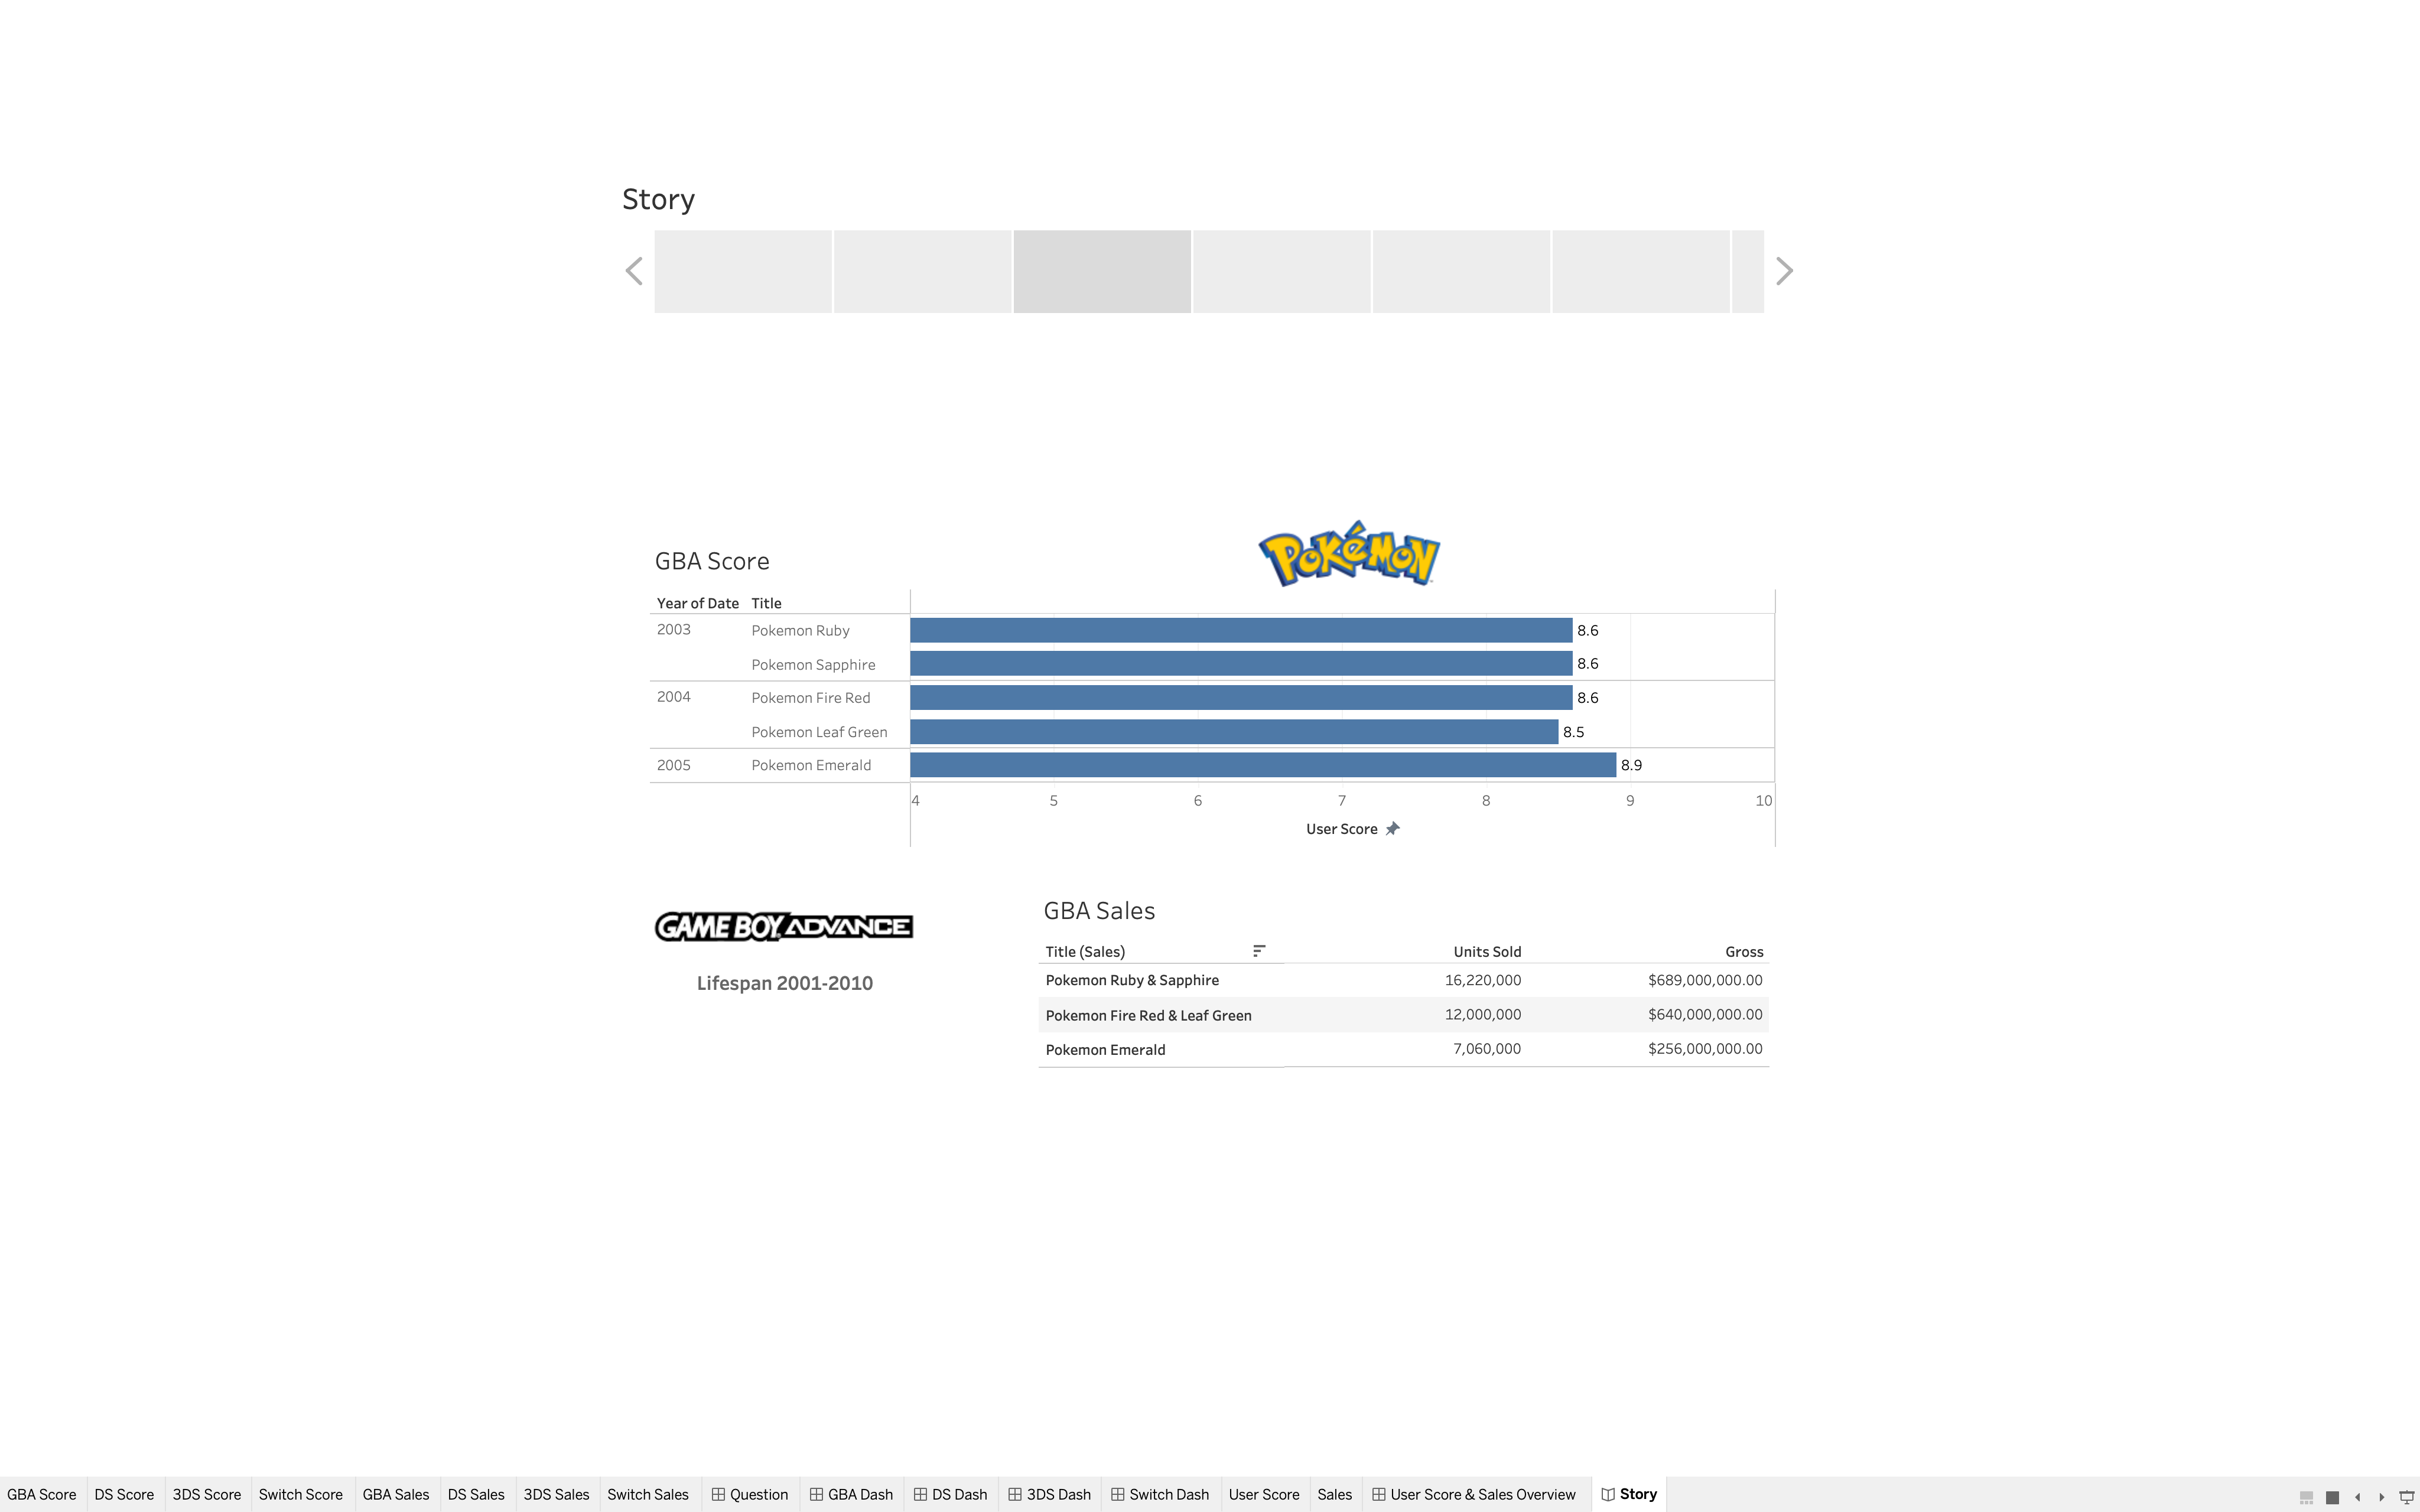

What the dashboard file says about the page in this screenshot:
{"tool":"tableau","page":{"name":"GBA Dash","canvas":[1000,600],"ordinal":2},"visuals":[{"type":"image","param":"/Users/qube/Documents/GitHub/Pokemon Tableau Analysis V2/Images/Pokemon.png","box":[497,48,242,57]},{"type":"worksheet","title":"GBA Score","mark":"Automatic","rows":["Date","Title"],"cols":["User Score"],"box":[26,64,953,262]},{"type":"worksheet","title":"GBA Sales","mark":"Automatic","rows":["Title (Sales)"],"box":[355,360,619,152.4]},{"type":"image","param":"/Users/qube/Documents/GitHub/Pokemon Tableau Analysis V2/Images/GBA.png","box":[27,364.8,225,52.8]},{"type":"text","box":[34,428.4,213,24]}]}

Visuals, with their boxes on the page's 1000x600 design canvas (x1, y1, x2, y2). These are canvas units, not pixel positions in the 2420x1512 screenshot, which may show the page scaled, cropped or inside an application window:
image: x1=497 y1=48 x2=739 y2=105
"GBA Score" worksheet: x1=26 y1=64 x2=979 y2=326
"GBA Sales" worksheet: x1=355 y1=360 x2=974 y2=512
image: x1=27 y1=365 x2=252 y2=418
text: x1=34 y1=428 x2=247 y2=452
